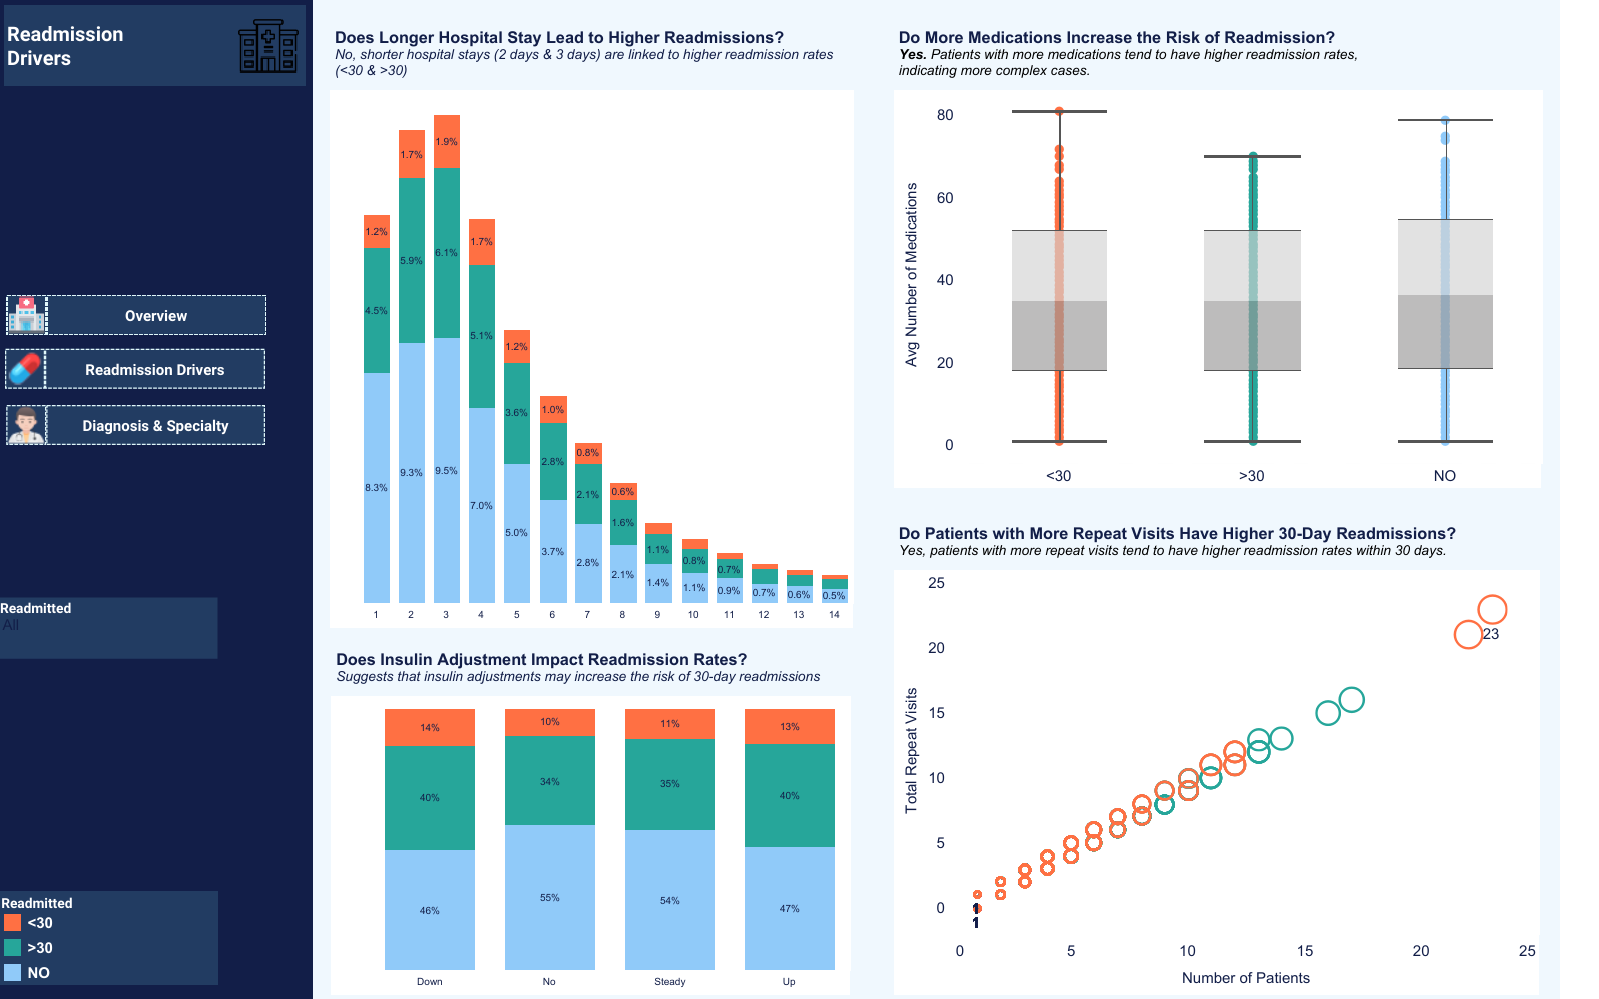

The page's visual inventory and layout, read from the dashboard file:
{"tool":"tableau","page":{"name":"Readmission Drivers","canvas":[1280,800],"ordinal":2},"visuals":[{"type":"text","box":[3,4,242,65]},{"type":"image","param":"Image/hospital.png","box":[190,12,49,52]},{"type":"worksheet","title":"Hospital Stay Length","mark":"Automatic","rows":["Calculation_720857471560171522"],"cols":["time_in_hospital (bin)"],"box":[260,12,426,494]},{"type":"worksheet","title":"Number of Medications vs Readmission","mark":"Circle","rows":["num_medications"],"cols":["readmitted"],"box":[711,12,526,382]},{"type":"image","param":"Image/hospital-building.png","box":[5,236,32,32]},{"type":"dashboard-object","box":[37,236,176,32]},{"type":"image","param":"Image/pill.png","box":[4,279,32,32]},{"type":"dashboard-object","box":[36,279,176,32]},{"type":"image","param":"Image/doctor.png","box":[5,324,32,32]},{"type":"dashboard-object","box":[37,324,175,32]},{"type":"worksheet","title":"Repeat Visits vs Readmission Status","mark":"Automatic","rows":["repeat_visit"],"cols":["Calculation_720857471560171522"],"box":[711,409,524,391]},{"type":"parameter","param":"[Parameters].[Parameter 1]","box":[24.6,428.4,98.5,52.4]},{"type":"filter","title":"Number of Medications vs Readmission","param":"[federated.1q17rmz0w1v3bb1asqrtu10nznnr].[none:readmitted:nk]","box":[0,478,174,49]},{"type":"worksheet","title":"Insulin Use","mark":"Automatic","rows":["Calculation_720857471641792521"],"cols":["insulin"],"box":[261,510,423,290]},{"type":"legend","title":"Number of Medications vs Readmission","param":"[federated.1q17rmz0w1v3bb1asqrtu10nznnr].[none:readmitted:nk]","box":[0,713,174,83]}]}

Visuals, with their boxes in screenshot pixels (x1, y1, x2, y2), scaled from the page's 1280x800 canvas onto the 1599x999 screenshot:
text: {"x1": 4, "y1": 5, "x2": 306, "y2": 86}
image: {"x1": 237, "y1": 15, "x2": 299, "y2": 80}
"Hospital Stay Length" worksheet: {"x1": 325, "y1": 15, "x2": 857, "y2": 632}
"Number of Medications vs Readmission" worksheet (Circle marks): {"x1": 888, "y1": 15, "x2": 1545, "y2": 492}
image: {"x1": 6, "y1": 295, "x2": 46, "y2": 335}
dashboard-object: {"x1": 46, "y1": 295, "x2": 266, "y2": 335}
image: {"x1": 5, "y1": 348, "x2": 45, "y2": 388}
dashboard-object: {"x1": 45, "y1": 348, "x2": 265, "y2": 388}
image: {"x1": 6, "y1": 405, "x2": 46, "y2": 445}
dashboard-object: {"x1": 46, "y1": 405, "x2": 265, "y2": 445}
"Repeat Visits vs Readmission Status" worksheet: {"x1": 888, "y1": 511, "x2": 1543, "y2": 998}
parameter: {"x1": 31, "y1": 535, "x2": 154, "y2": 600}
"Number of Medications vs Readmission" filter: {"x1": 0, "y1": 597, "x2": 217, "y2": 658}
"Insulin Use" worksheet: {"x1": 326, "y1": 637, "x2": 854, "y2": 998}
"Number of Medications vs Readmission" legend: {"x1": 0, "y1": 890, "x2": 217, "y2": 994}
